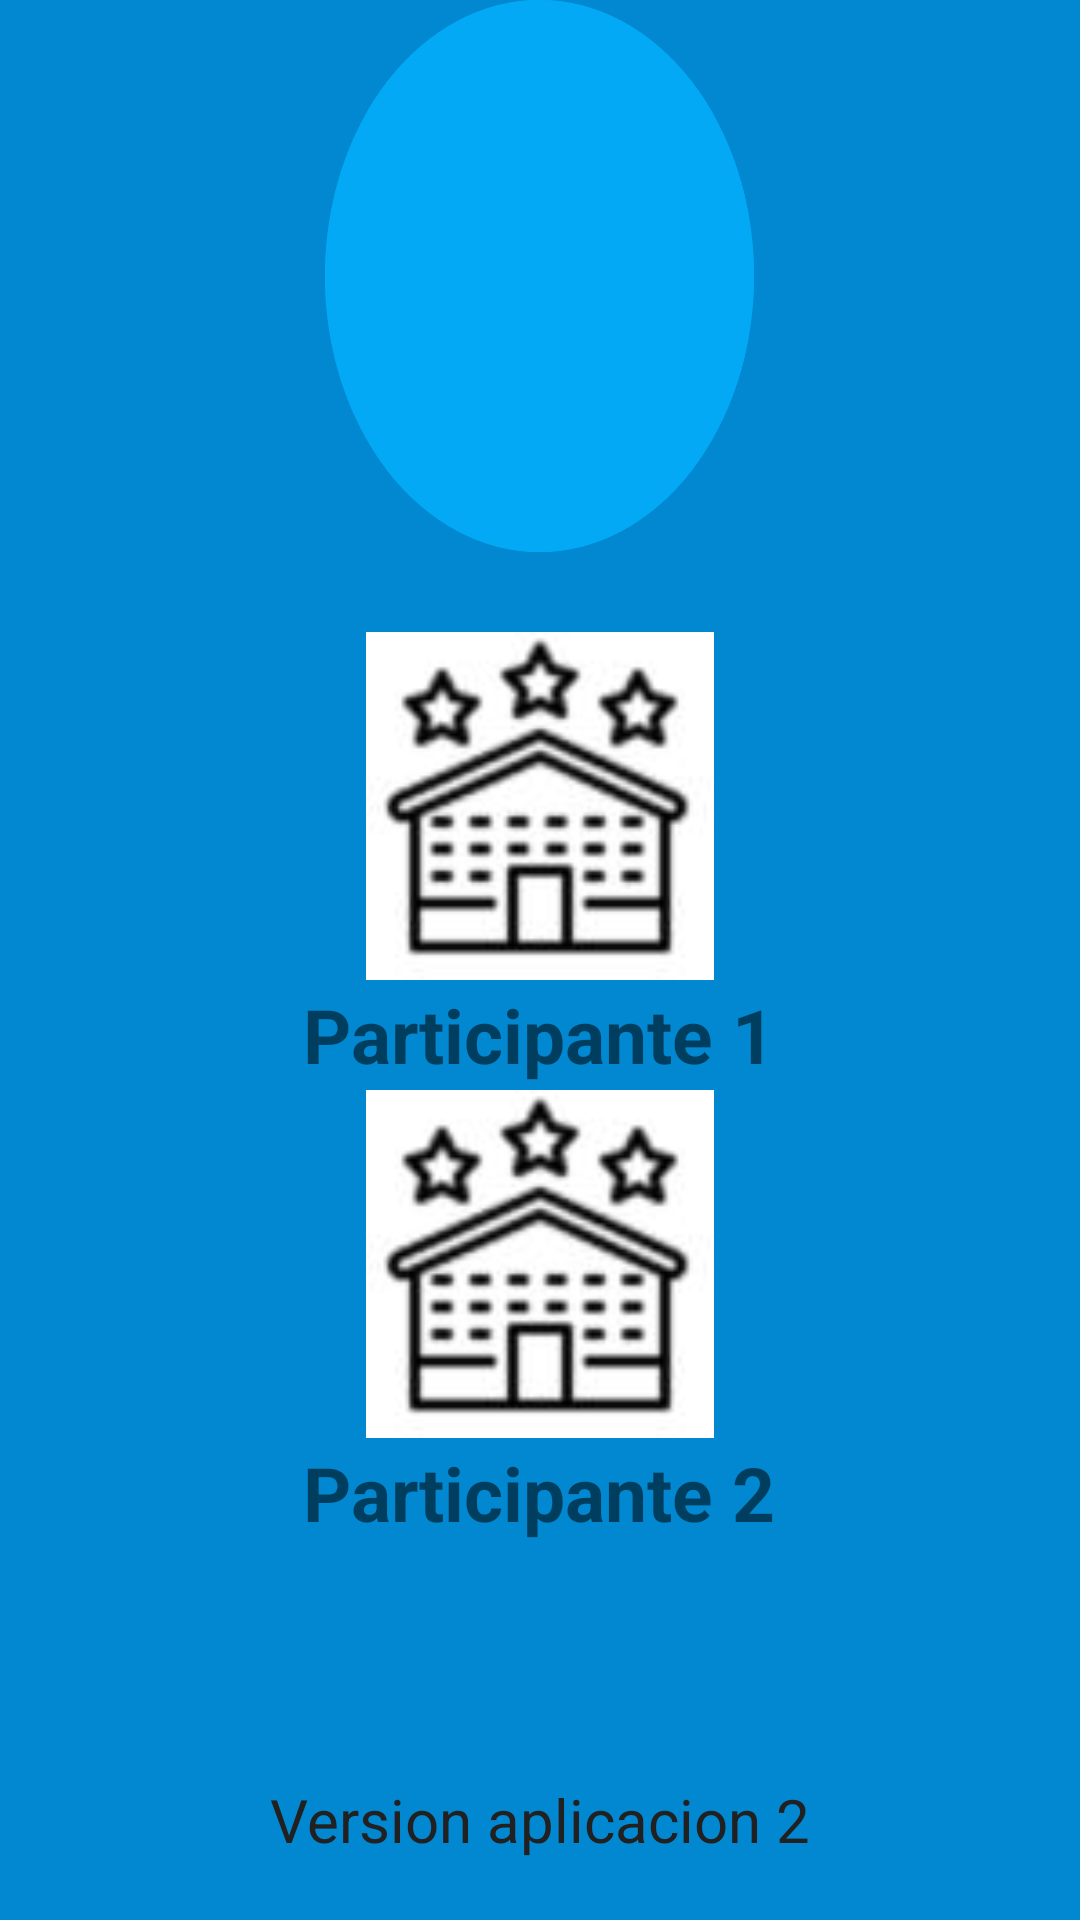

Icons on this 1080 x 1920 Android screen, each with the point to tap as (x,y):
hotel: (540,806), (540,1264)
